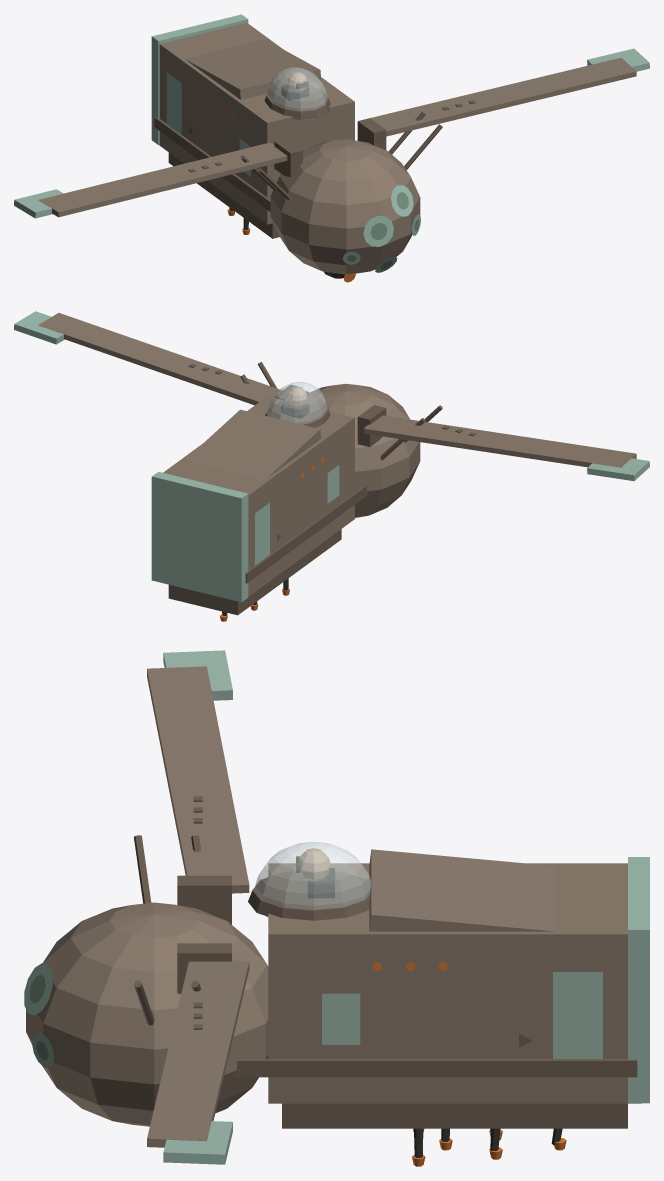
The model's file is gatePodCraft_pod-55-2.glb.
The picture shows the model from 3 angles, top to bottom: view 1: azimuth 30°, elevation 25°; view 2: azimuth 150°, elevation 25°; view 3: azimuth 270°, elevation 25°; orthographic projection. The views are drawn at different scales.
Parts seen in each view (by area): view 1: n1, n13, n44, n33, n15, n27, n19, n28, n21, n17, n23, n37 (+5 smaller); view 2: n13, n19, n1, n15, n44, n33, n17, n27, n21, n28, n35, n46 (+2 smaller); view 3: n13, n1, n15, n33, n44, n17, n22, n27, n19, n28, n25, n37 (+6 smaller).
Boxes of the visible parts, left/top/right/bottom form: n1: left=270, top=139, right=420, bottom=274; n13: left=159, top=23, right=354, bottom=224; n44: left=370, top=57, right=636, bottom=136; n33: left=38, top=142, right=287, bottom=217; n15: left=185, top=39, right=320, bottom=99; n27: left=267, top=67, right=327, bottom=120; n19: left=151, top=14, right=248, bottom=144; n28: left=264, top=83, right=330, bottom=119; n21: left=154, top=117, right=270, bottom=211; n17: left=168, top=152, right=279, bottom=238; n23: left=166, top=72, right=181, bottom=134; n37: left=274, top=138, right=302, bottom=177; n13: left=163, top=396, right=354, bottom=596; n19: left=151, top=471, right=248, bottom=602; n1: left=307, top=383, right=420, bottom=517; n15: left=185, top=409, right=320, bottom=479; n44: left=38, top=313, right=282, bottom=405; n33: left=363, top=415, right=636, bottom=467; n17: left=168, top=529, right=341, bottom=615; n27: left=267, top=381, right=327, bottom=424; n21: left=245, top=486, right=368, bottom=583; n28: left=265, top=397, right=330, bottom=427; n35: left=587, top=458, right=649, bottom=481; n46: left=14, top=311, right=64, bottom=344; n13: left=268, top=863, right=641, bottom=1103; n1: left=26, top=902, right=268, bottom=1126; n15: left=369, top=849, right=555, bottom=931; n33: left=147, top=666, right=249, bottom=893; n44: left=147, top=960, right=249, bottom=1147; n17: left=282, top=1103, right=627, bottom=1128; n22: left=232, top=1058, right=637, bottom=1077; n27: left=255, top=842, right=371, bottom=917; n19: left=628, top=857, right=649, bottom=1103; n28: left=248, top=871, right=370, bottom=920; n25: left=553, top=972, right=602, bottom=1058; n37: left=177, top=875, right=231, bottom=924.
Bounding box in the file's own units: 13.11 × 3.67 × 6.98.
